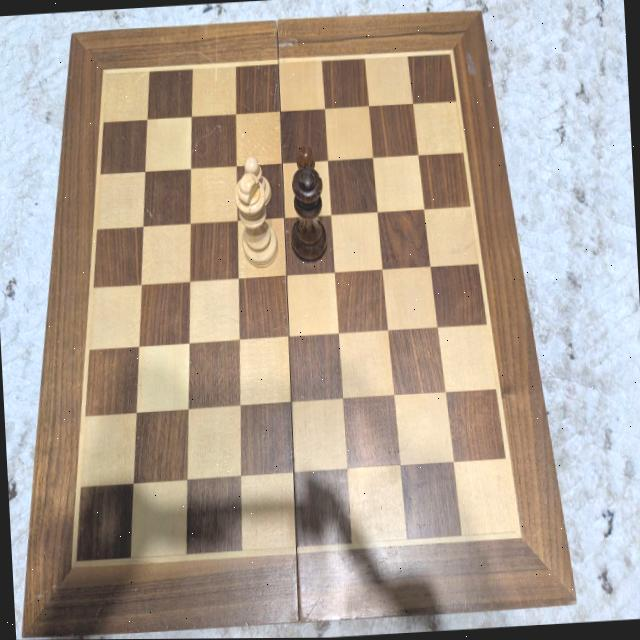black_pawn: (296, 146, 318, 205)
black_queen: (286, 167, 328, 265)
white_king: (233, 171, 280, 270)
white_pawn: (243, 156, 273, 209)
